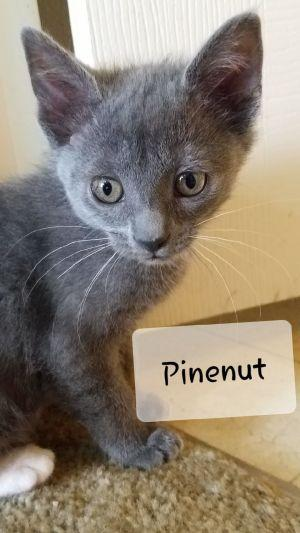rblue: (1, 1, 288, 297)
